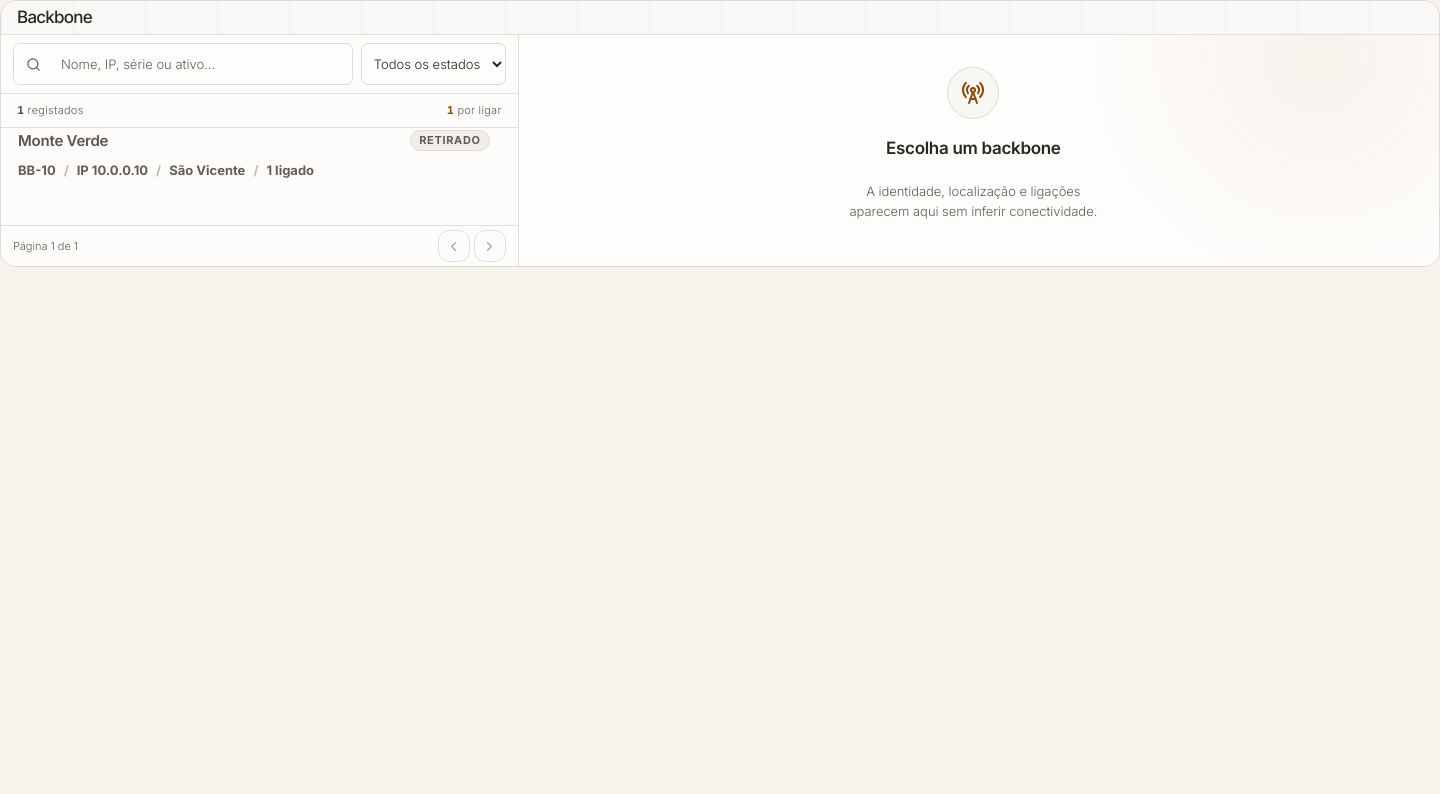
Backbone workspace › keeps retired backbone facts visible without offering active-topology navigation
Click the option "Monte Verde Retirado BB-10 IP 10.0.0.10 São Vicente 1 ligado". click: (63, 141)
box: x1=1 y1=128 x2=507 y2=181
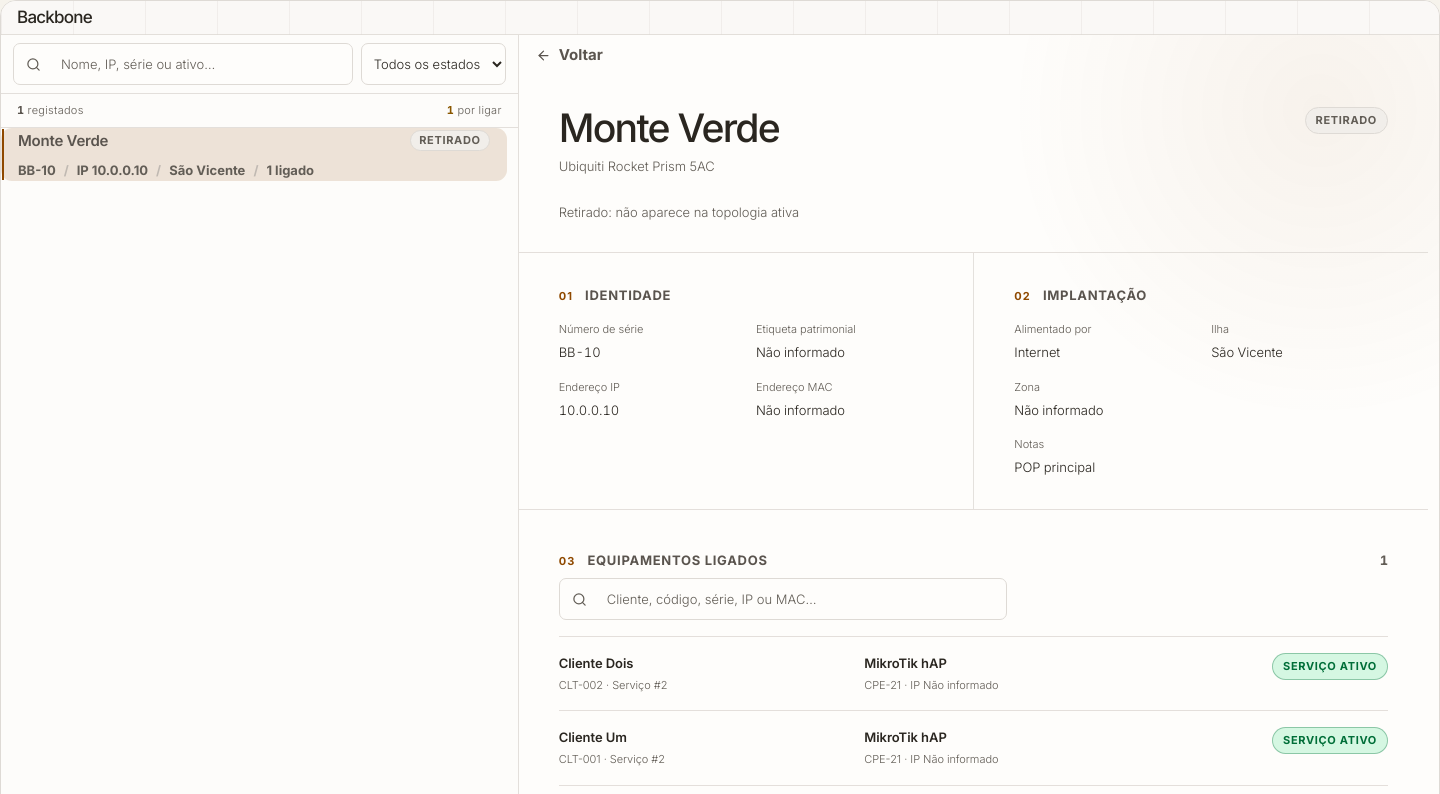
Expected: the message "Retirado: não aparece na topologia ativa" is shown, x1=559 y1=204 x2=799 y2=220
